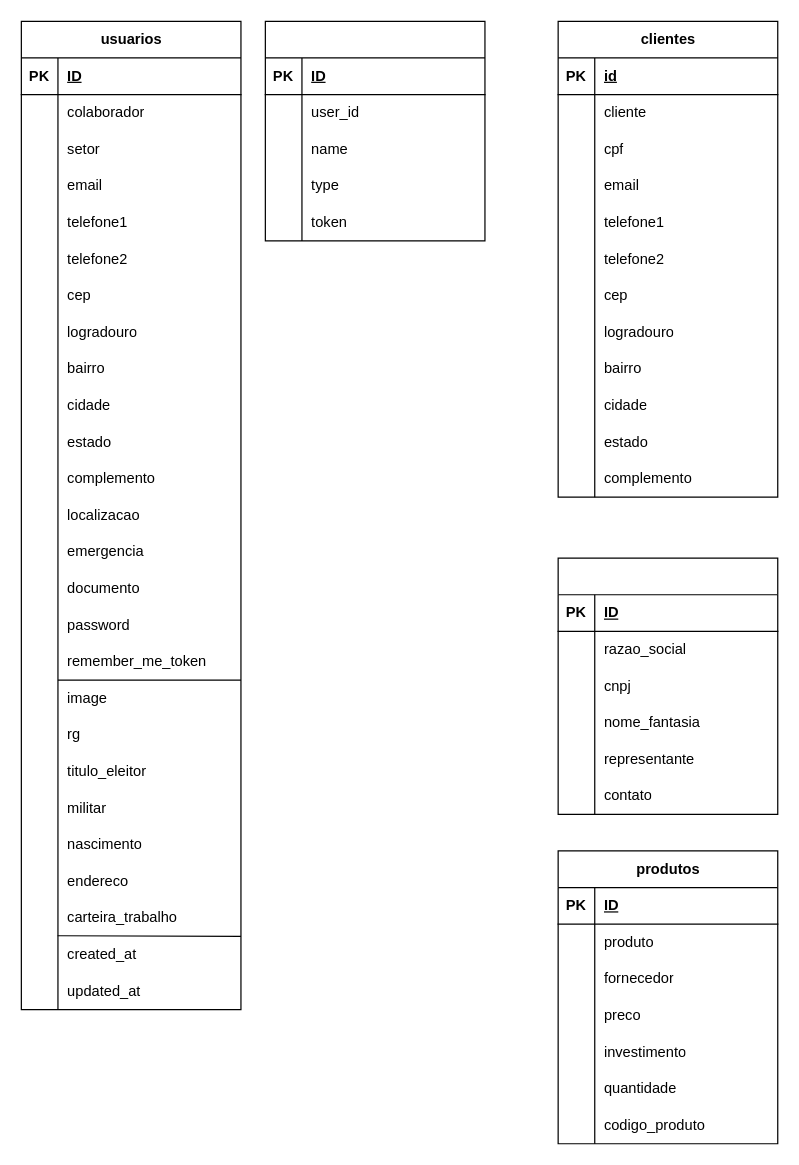
Image size: 799x1165. Some labels were removed from this diagram. Here are the shapes that lost their labels. From the top down, the box of each, then its label:
(264, 20, 485, 241): api_tokens
(557, 557, 778, 814): empresa
